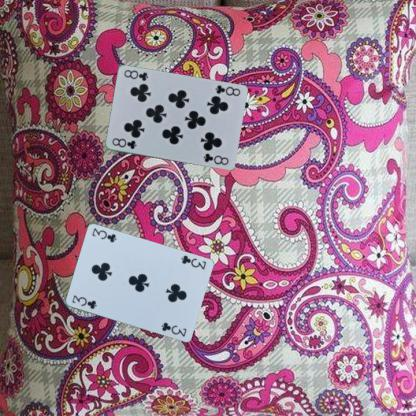3c: (178, 252, 207, 271), (69, 292, 98, 310)
8c: (212, 82, 241, 98), (109, 136, 138, 150)
